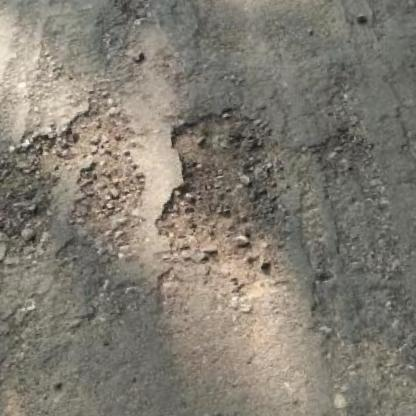pothole: (132, 94, 310, 312), (49, 97, 159, 254), (0, 127, 84, 266), (76, 0, 189, 30)
